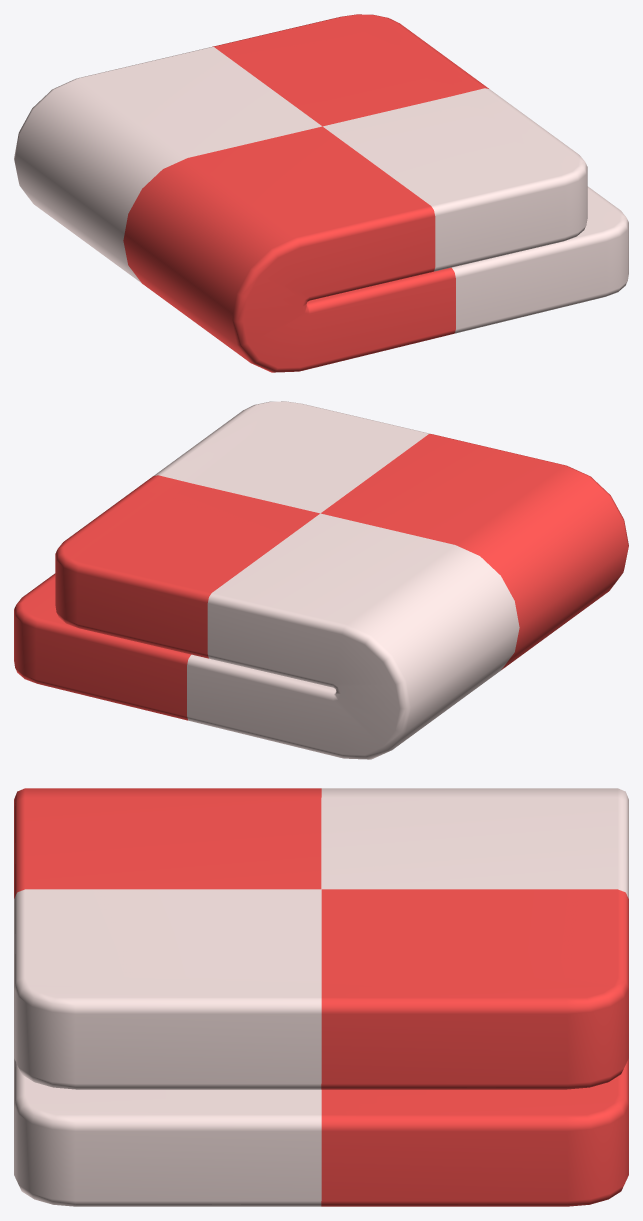
File: Public_15_Towel_4.glb
The picture shows the model from 3 angles, top to bottom: view 1: azimuth 30°, elevation 25°; view 2: azimuth 150°, elevation 25°; view 3: azimuth 270°, elevation 25°; orthographic projection. The views are drawn at different scales.
Visible parts, largest first — view 1: Public_15_Towel_4; view 2: Public_15_Towel_4; view 3: Public_15_Towel_4.
Part boxes in pixels (x1,y1,x2,y2): Public_15_Towel_4: [14, 14, 628, 372]; Public_15_Towel_4: [14, 401, 628, 759]; Public_15_Towel_4: [14, 788, 628, 1206].
Size of the model in its own units: 1.82 by 0.569 by 1.73.
1 material, 1 textured.
